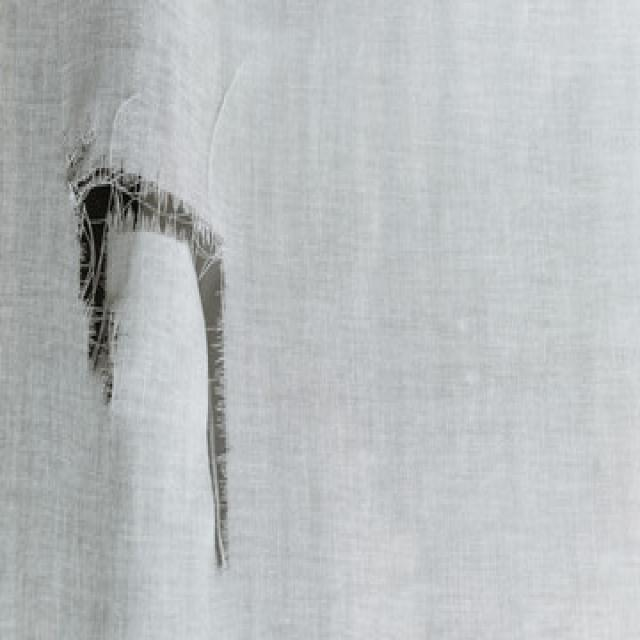Hole: (69, 150, 228, 568)
